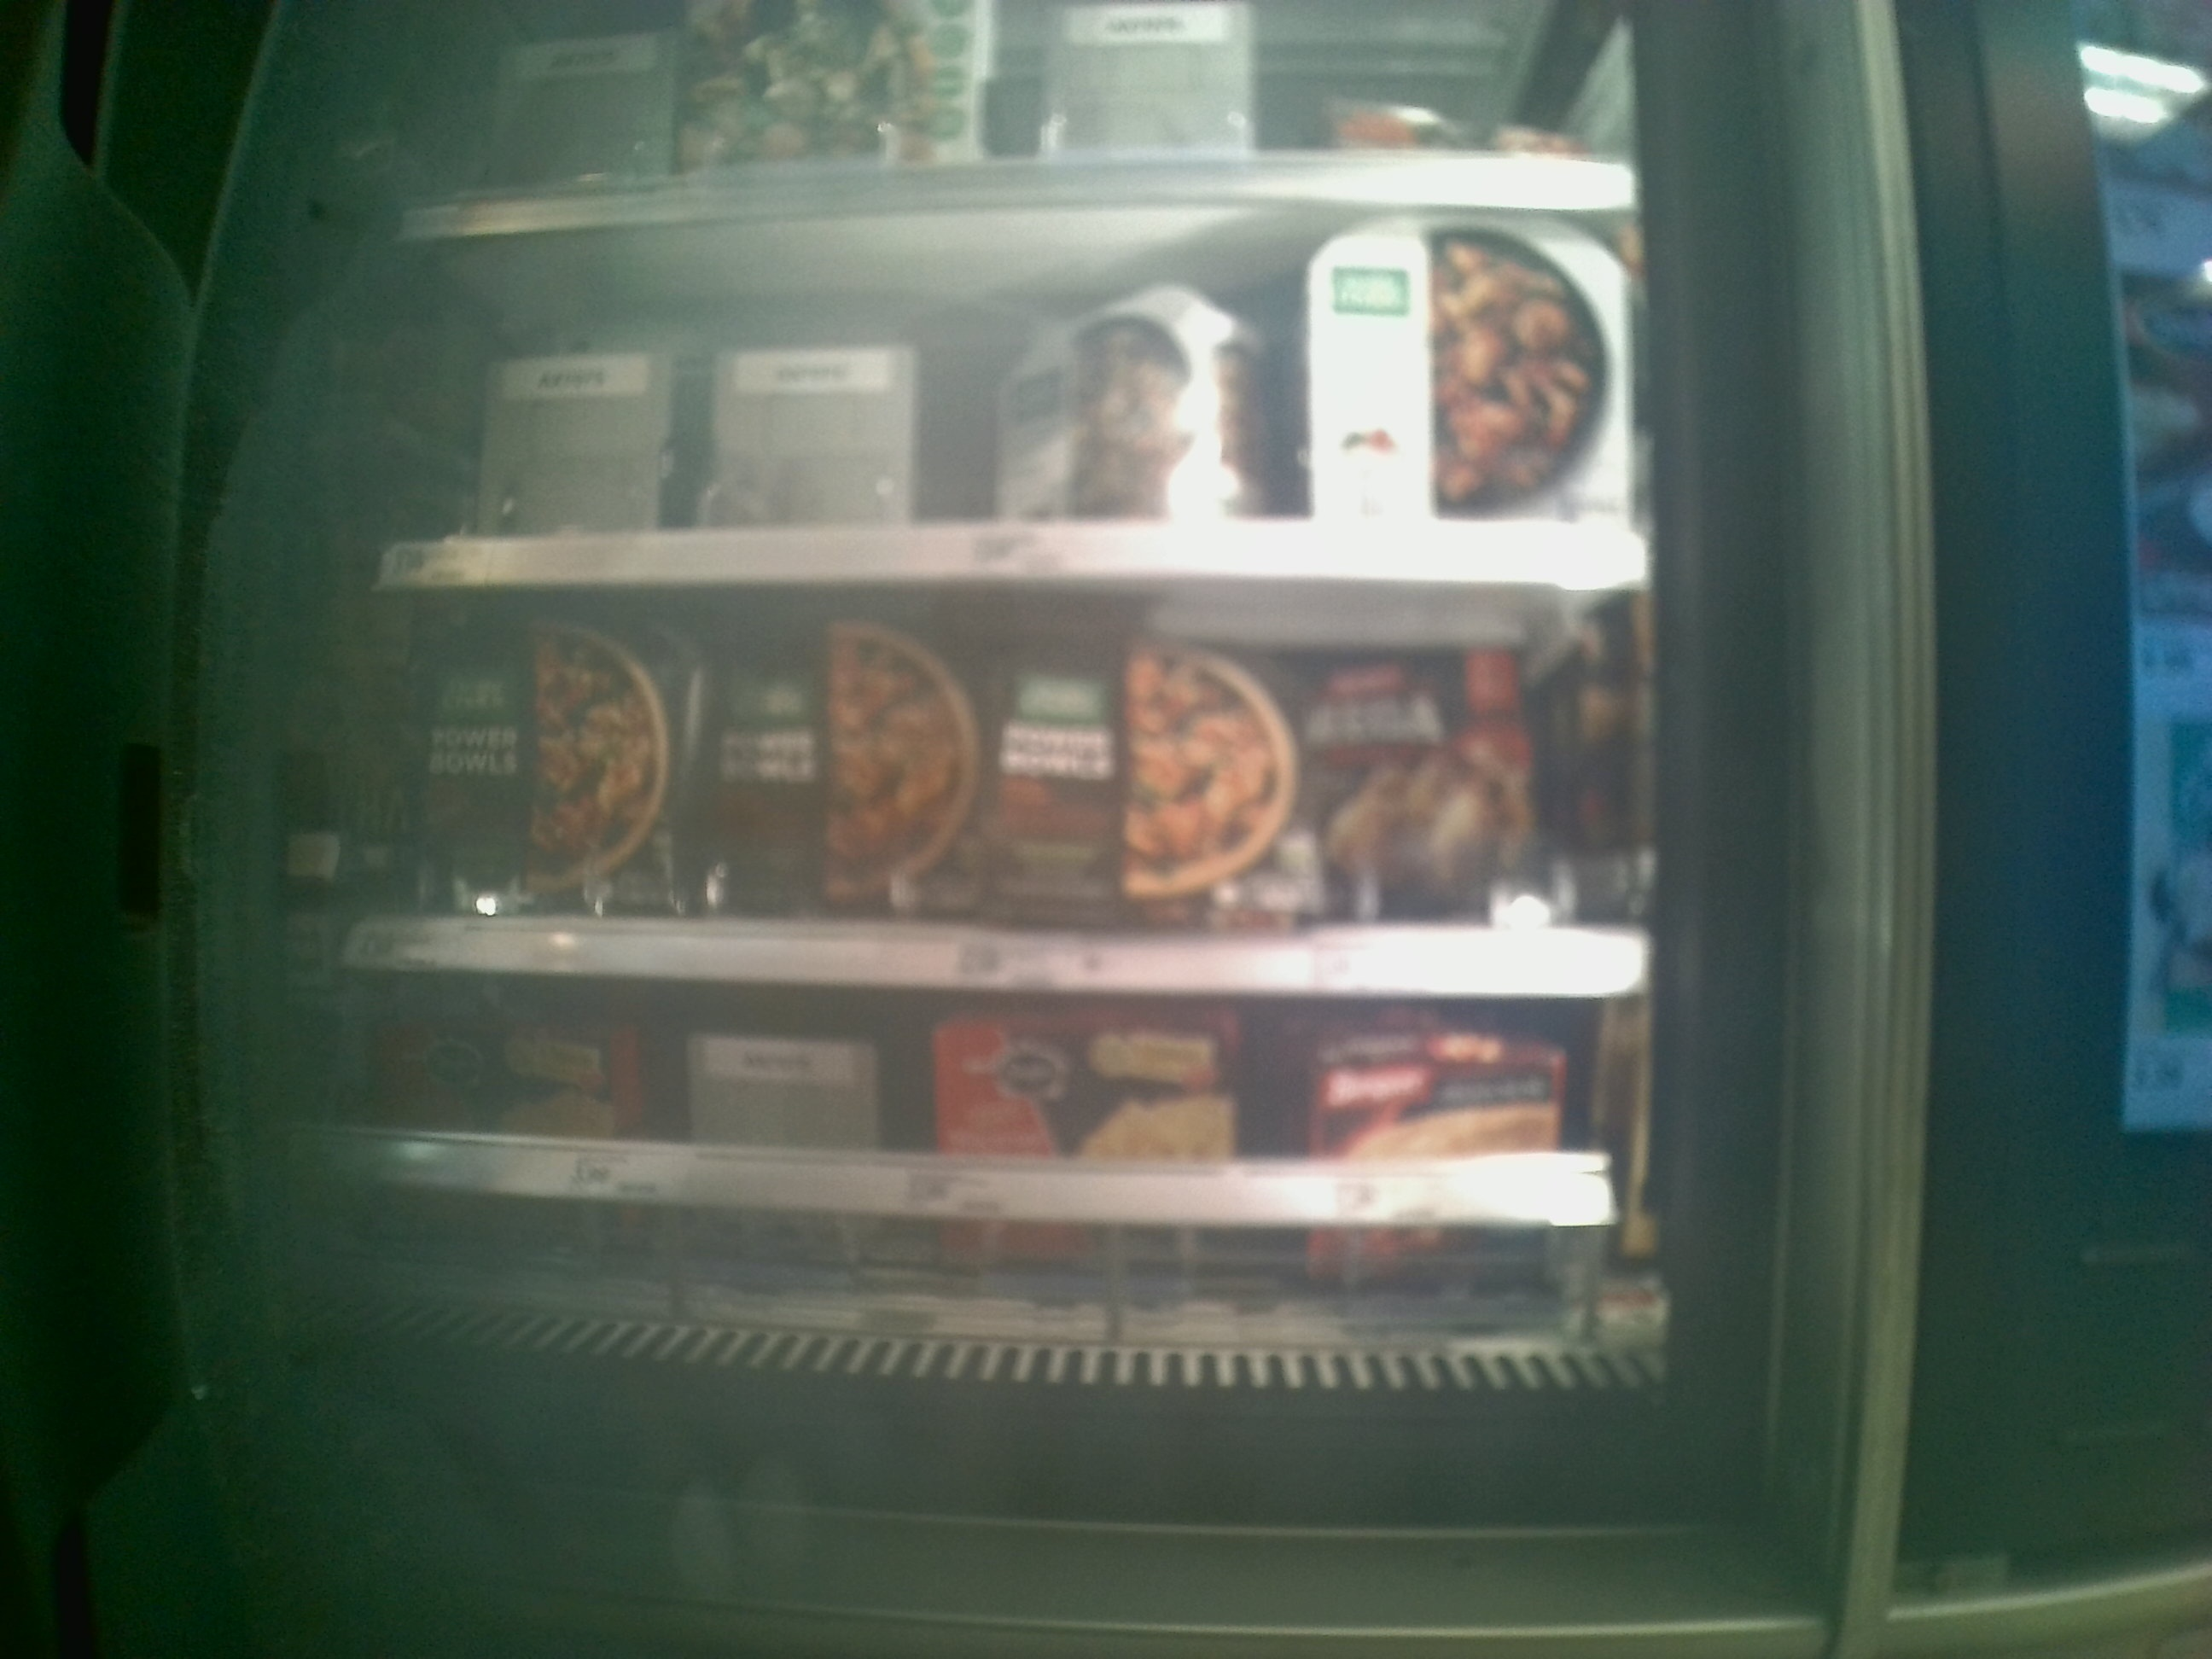shelf: (359, 579, 1634, 1000), (359, 197, 1655, 580), (324, 969, 1634, 1300)
